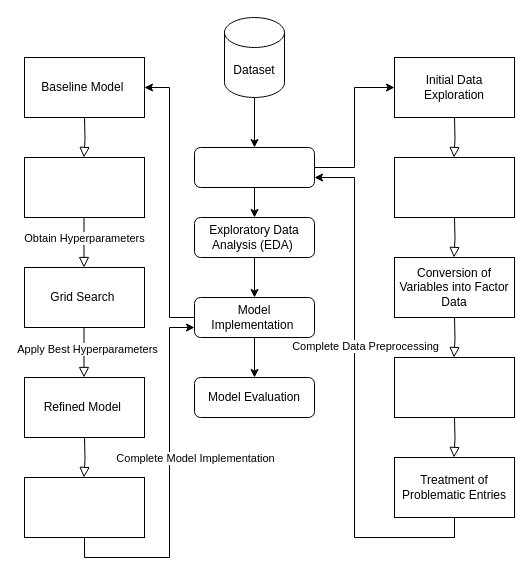
Image size: 532x583. Some labels were removed from this diagram. The centre of each missing label's shape, as x and y in pixels:
Data Preprocessing: (x=254, y=167)
Detection and Treatment of Outliers: (x=454, y=387)
Determine Feature Importance: (x=84, y=507)
Random Search: (x=84, y=187)
Renaming of the Column Label: (x=454, y=187)
